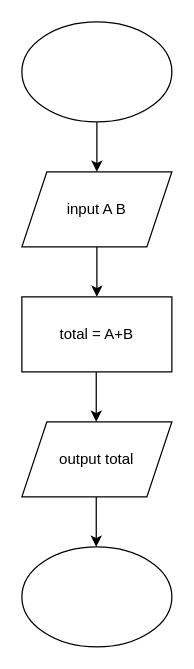
Image size: 194x669. Some labels were removed from this diagram. The centre of each missing label's shape, as x and y in pixels:
end: pixel 96 596
Start: pixel 96 71
